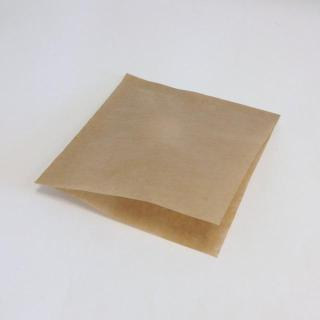Anorganik: (33, 66, 291, 266)
